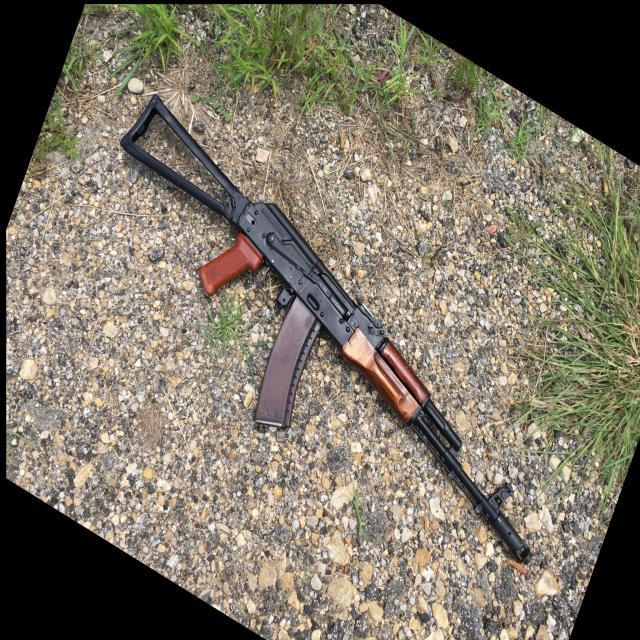weapon: (119, 92, 531, 560)
